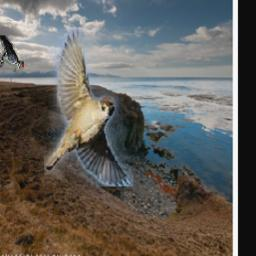Sparrow: (44, 30, 133, 188)
Woodpecker: (0, 36, 25, 73)
